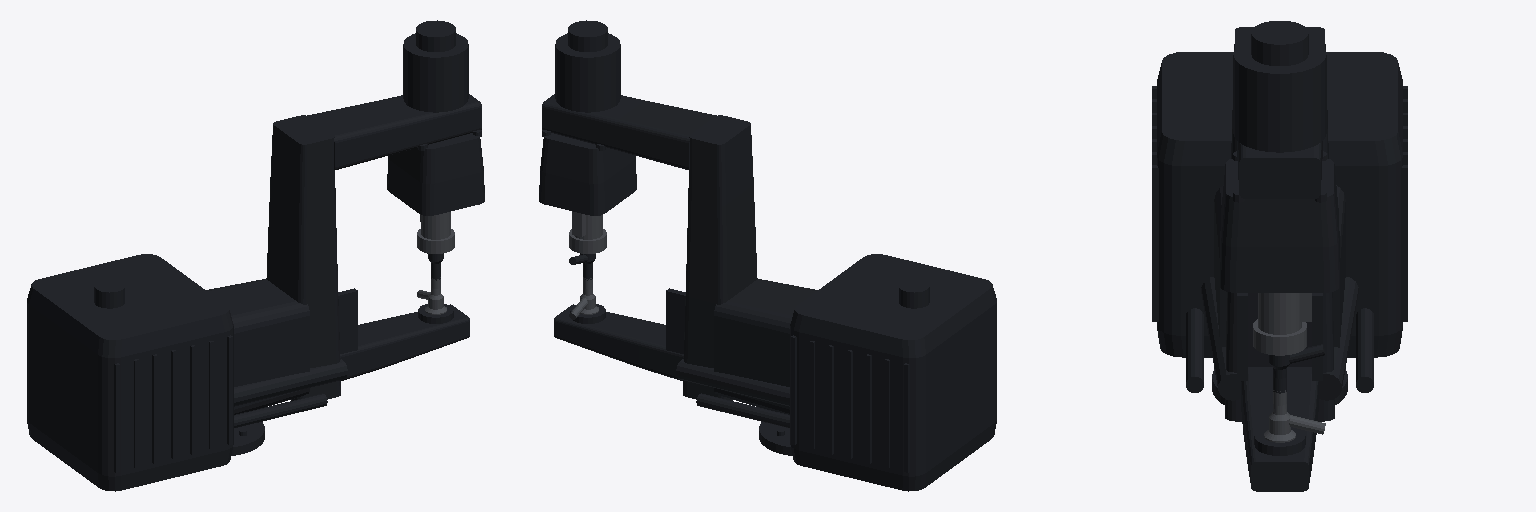
The robot description file, URDF, robot "weld_gun_xr637":
<?xml version="1.0"?>
<!--
  Weld Gun C1: 小型サーボスポットガン (C ガン / 直動式) の自作アセット (CC0-1.0)。
  X 型の weld-gun-x16005 と対になる C 型。

  **これは特定メーカー製品の複製ではない。** 寸法図を公開しているメーカーは無いため
  (weld-gun-x16005 で OBARA / NIMAK / Milco / ARO / Electroweld を確認済み)、
  **外観は独自著作のまま、寸法と仕様だけを実機の公表値に一致させてある**:

  - **のど 230 x 225 mm / トランス 100 kVA / 質量 84 kg** = Milco XR モジュラー
    C ガン **637-12402-15** の公表値 (ERS Engineering 掲載の Milco 資料)。
    同ライブラリの他の C ガンは 180x345 (80 kg) と 230x315 (90 kg) なので、
    225 mm は Milco C ガン系で最も浅いのど深さにあたる
  - 電極キャップ = **ISO 5821 Type F, 16 x 20** (d1=16, l1=20, R1=40, テーパ 1:10,
    Fmax=4 kN)。加圧力 4.0 kN はこの Fmax に一致させてある。
    Milco の枠強度は 1100 lbf = 4.9 kN なので、**制限しているのはキャップ側**
  - ストローク 80 mm = HERON DB6-110-C16027 (C 型サーボガン) の 78 mm 相当。
    TECNA の C ガン 3020/3024 の max stroke 75-100 mm とも整合
  - 質量・重心は FANUC R-2000iC/165F の手首許容値に収まることを確認済み
    (84 kg / J5 180 Nm・11.0 kg·m^2 / J6 23 Nm・5.6 kg·m^2 に対し、
     許容 165 kg / 940 Nm・89 kg·m^2 / 490 Nm・46 kg·m^2)。
    **トランスはマウント後方に置いてある** — 喉と同じ高さに座らせると打点まわりで
    真っ先に当たるのがトランスになるうえ、重心がツール軸から外れて J6 が重くなる

  weld-gun-x16005 との使い分け: X 側はのど 384 mm でフランジの奥まで届くが手首が
  打点から遠くなる。本機はのど 225 mm で TCP が mount から 0.468 m (X 側は 0.647 m)
  なので、**手首を打点に寄せられる代わりに深いところへは入らない**。

  visual: tools/generate_meshes.py が生成する ../meshes/*.stl (手続き的著作)
  collision: URDF プリミティブのみ。**のど (throat) の開口を保つのが目的**で、
          builder はプリミティブを素通しするため VHACD で開口が塞がれない。
          アクチュエータは中央にラムの通るボアがあるので左右 2 枚 + 上蓋で表し、
          ラムの掃引域は electrode_ram 側の collision が受け持つ (二重計上しない)。
          可撓物 (キックレスケーブル・水配管) には collision 無し

  慣例 (botrail カタログ):
  - Z-up / メートル。root リンク mount = フランジ接触面 (+Z がツール内側)。
    attach_tool はツールを root で溶接する
  - tcp = 固定電極先端 (body 側の固定リンク)
  - electrode_joint は prismatic で **正方向 = 開** (q=0 で電極間 5 mm、
    q=0.080 m で電極間 85 mm)。x1 の revolute と符号の意味を揃えてある
-->
<robot name="weld_gun_xr637">

  <link name="mount"/>

  <link name="body">
    <!--
      色: STL は材質を持てないので外観はここで述べる (述べないと消費側が既定
      パレットで塗り、同じ製品でもシーン内の並び順で色が変わる)。参照実機の
      公表資料に塗色の記載は無いので実機の塗装は主張せず、この種のガンとして
      素直な地色を著作する: 塗装された機体 + 素地のままの可動アーム。
      電極キャップ (ISO 5821 Type F) は銅合金だが、いまは可動アーム側の
      メッシュに含まれていて塗り分けられない (分けるなら generate_meshes.py で
      別メッシュにし、tools/measure_throat.py の読み先も直す)。
      数値は **linear** で渡る (studio は LinearSRGB として読む)。
    -->
    <visual>
      <geometry>
        <mesh filename="../meshes/body.stl"/>
      </geometry>
          <material name="painted_machine_grey"><!-- 塗装された機体 (サーボ + トランス周り) -->
        <color rgba="0.16 0.17 0.19 1.0"/>
      </material>
</visual>

    <collision><!-- mount flange -->
      <origin xyz="0 0 0.008"/>
      <geometry><cylinder radius="0.08" length="0.016"/></geometry>
    </collision>
    <collision><!-- MFDC transformer (behind the mount, clear of the throat plane) -->
      <origin xyz="-0.17 0 0.16"/>
      <geometry><box size="0.26 0.29 0.28"/></geometry>
    </collision>
    <collision><!-- spine, mount to C-frame column -->
      <origin xyz="0.04 0 0.155"/>
      <geometry><box size="0.2 0.156 0.19"/></geometry>
    </collision>
    <collision><!-- C-frame column -->
      <origin xyz="0.165 0 0.295"/>
      <geometry><box size="0.07 0.116 0.47"/></geometry>
    </collision>
    <collision><!-- lower arm -->
      <origin xyz="0.3075 0 0.1"/>
      <geometry><box size="0.325 0.09 0.05"/></geometry>
    </collision>
    <collision><!-- upper beam -->
      <origin xyz="0.3425 0 0.5"/>
      <geometry><box size="0.285 0.104 0.06"/></geometry>
    </collision>
    <collision><!-- actuator housing +y (bore left clear for the ram and its receiver) -->
      <origin xyz="0.425 0.053 0.4125"/>
      <geometry><box size="0.12 0.034 0.115"/></geometry>
    </collision>
    <collision><!-- actuator housing -y -->
      <origin xyz="0.425 -0.053 0.4125"/>
      <geometry><box size="0.12 0.034 0.115"/></geometry>
    </collision>
    <collision><!-- actuator housing top (above the ram's full-open position) -->
      <origin xyz="0.425 0 0.455"/>
      <geometry><box size="0.12 0.14 0.03"/></geometry>
    </collision>
    <collision><!-- servo motor -->
      <origin xyz="0.425 0 0.581"/>
      <geometry><cylinder radius="0.055" length="0.102"/></geometry>
    </collision>
    <collision><!-- fixed electrode holder -->
      <origin xyz="0.425 0 0.15"/>
      <geometry><cylinder radius="0.02" length="0.05"/></geometry>
    </collision>
    <collision><!-- fixed cap, ISO 5821 Type F 16x20 -->
      <origin xyz="0.425 0 0.185"/>
      <geometry><cylinder radius="0.009" length="0.02"/></geometry>
    </collision>

    <inertial>
      <origin xyz="0.00816 0 0.21351"/>
      <mass value="80.0"/>
      <inertia ixx="2.18575" ixy="0.0" ixz="-1.57456" iyy="6.30116" iyz="0.0" izz="4.84279"/>
    </inertial>
  </link>

  <link name="electrode_ram">
    <visual>
      <geometry>
        <mesh filename="../meshes/electrode_ram.stl"/>
      </geometry>
          <material name="bare_steel"><!-- 素地の可動ラム -->
        <color rgba="0.32 0.33 0.35 1.0"/>
      </material>
</visual>

    <collision><!-- ram (ball screw) -->
      <origin xyz="0 0 -0.0425"/>
      <geometry><cylinder radius="0.026" length="0.085"/></geometry>
    </collision>
    <collision><!-- holder receiver -->
      <origin xyz="0 0 -0.087"/>
      <geometry><cylinder radius="0.032" length="0.024"/></geometry>
    </collision>
    <collision><!-- moving electrode holder -->
      <origin xyz="0 0 -0.11"/>
      <geometry><cylinder radius="0.02" length="0.05"/></geometry>
    </collision>
    <collision><!-- moving cap, ISO 5821 Type F 16x20 -->
      <origin xyz="0 0 -0.145"/>
      <geometry><cylinder radius="0.009" length="0.02"/></geometry>
    </collision>

    <inertial>
      <origin xyz="0 0 -0.07997"/>
      <mass value="4.0"/>
      <inertia ixx="0.00751" ixy="0.0" ixz="0.0" iyy="0.00751" iyz="0.0" izz="0.00119"/>
    </inertial>
  </link>

  <link name="tcp"/>

  <joint name="body_joint" type="fixed">
    <parent link="mount"/>
    <child link="body"/>
  </joint>

  <joint name="electrode_joint" type="prismatic">
    <origin xyz="0.425 0 0.355"/>
    <parent link="body"/>
    <child link="electrode_ram"/>
    <axis xyz="0 0 1"/>
    <!-- effort = 加圧力 4.0 kN (ISO 5821 ⌀16 の Fmax)、velocity = 0.25 m/s -->
    <limit lower="0" upper="0.080" effort="4000" velocity="0.25"/>
  </joint>

  <joint name="tcp_joint" type="fixed">
    <origin xyz="0.425 0 0.195"/>
    <parent link="body"/>
    <child link="tcp"/>
  </joint>

</robot>

--- What the picture shows (computed from the rendered views, not written in the file) ---
3 views of the same robot in one strip: view 1: azimuth 30°, elevation 25°; view 2: azimuth 150°, elevation 25°; view 3: azimuth 270°, elevation 25° (orthographic).
Robot: weld_gun_xr637 — 4 links, 3 joints (1 prismatic, 2 fixed); root link mount; default pose: all joints at 0.
Visible links, largest first — view 1: body, electrode_ram; view 2: body, electrode_ram; view 3: body, electrode_ram.
Link boxes in pixels (x1,y1,x2,y2): body: [27, 20, 484, 491]; electrode_ram: [417, 212, 454, 314]; body: [539, 20, 996, 491]; electrode_ram: [569, 211, 606, 319]; body: [1152, 21, 1407, 491]; electrode_ram: [1253, 293, 1325, 442].
Bounding box of the posed robot: 0.788 × 0.3 × 0.66 m (x, y, z).
Meshes: 2 distinct files referenced, 2 mesh visuals loaded (2 binary STL).
